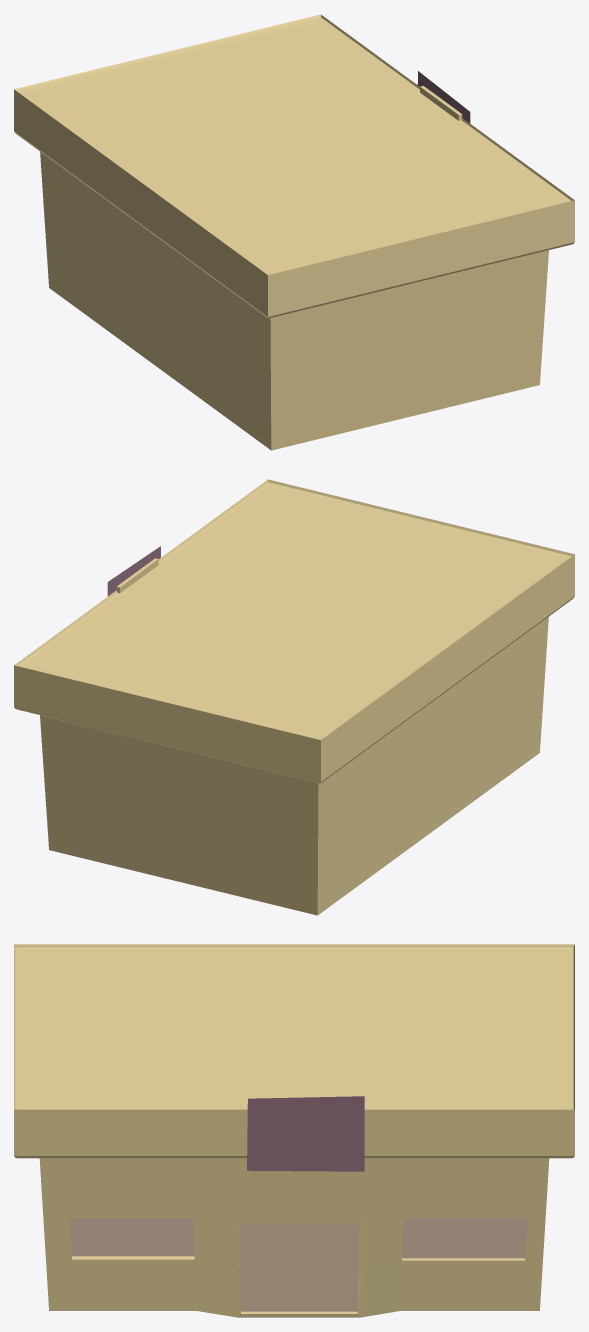
File: Tienda.fbx
3 renders of one model, top to bottom at view 1: azimuth 30°, elevation 25°; view 2: azimuth 150°, elevation 25°; view 3: azimuth 270°, elevation 25°, orthographic. The views are drawn at different scales.
Visible parts, largest first — view 1: Cube.004; view 2: Cube.004; view 3: Cube.004.
Part boxes in pixels (box(x1,y1,x2,y2)): Cube.004: box(14, 14, 574, 450); Cube.004: box(14, 479, 574, 915); Cube.004: box(14, 944, 574, 1317).
Bounding box in the file's own units: 17.4 × 11.35 × 24.81.
